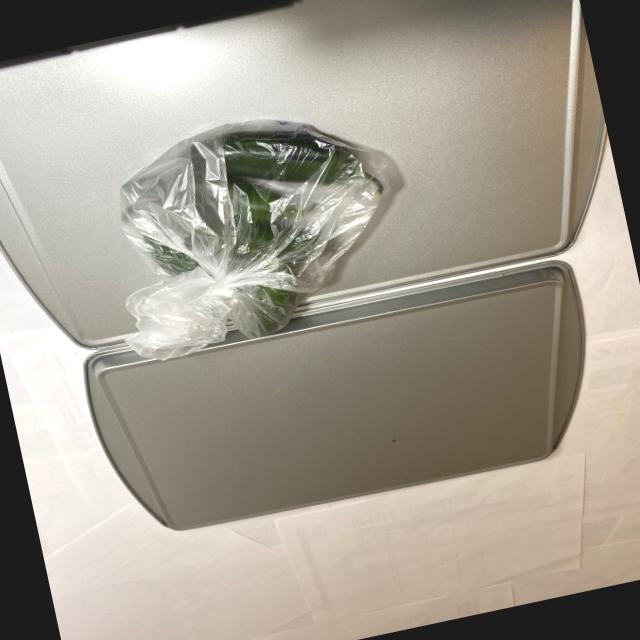chilli: (117, 109, 410, 360)
